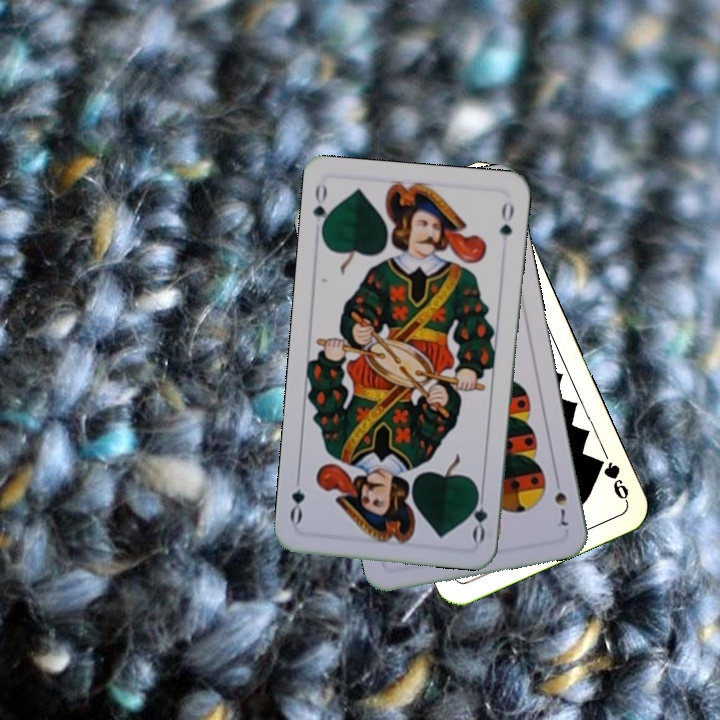G9: (591, 454, 631, 505)
GO: (309, 180, 334, 240), (468, 484, 490, 544)
S7: (550, 473, 571, 531)
